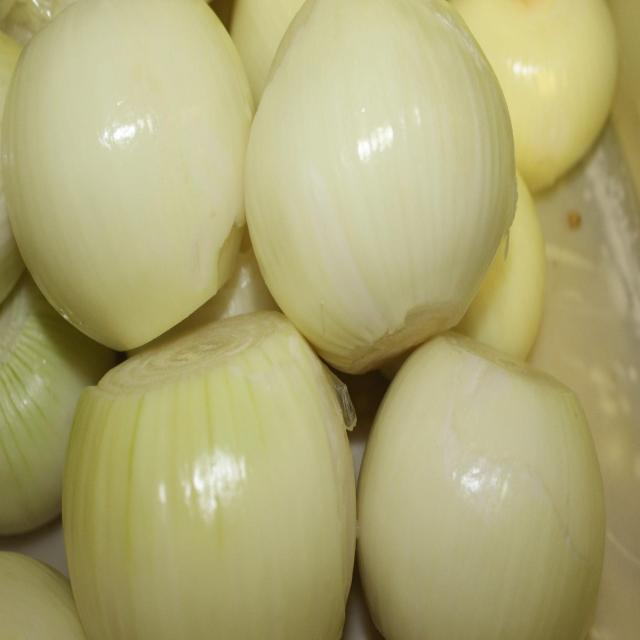Onion: (243, 0, 519, 371), (61, 309, 357, 640), (6, 1, 254, 352), (357, 332, 603, 640), (452, 2, 620, 195), (0, 271, 115, 535), (456, 167, 546, 360), (232, 3, 308, 104), (179, 248, 279, 324), (0, 550, 84, 640), (0, 27, 24, 306), (0, 1, 67, 42)
